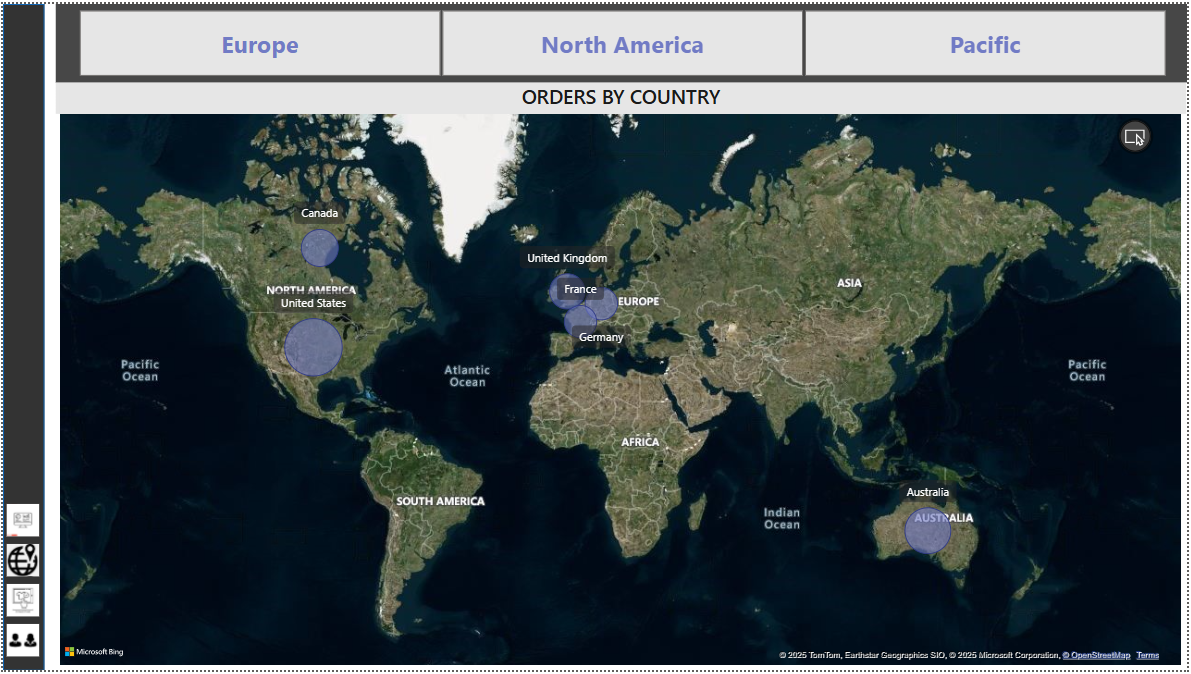

The page's visual inventory and layout, read from the dashboard file:
{"tool":"powerbi","page":{"name":"MAP","canvas":[1280,720],"ordinal":1},"visuals":[{"type":"map","title":"ORDERS BY COUNTRY","fields":{"Category":["Territory Lookup.Country"],"Size":["Table Measures.Total Orders"]},"box":[56.9,84.5,1222.4,634.5],"z":0},{"type":"actionButton","box":[0,536.2,44.8,43.1],"z":0,"group":"g1"},{"type":"slicer","fields":{"Values":["Territory Lookup.Continent"]},"box":[56.9,0,1224.1,84.5],"z":1000},{"type":"actionButton","box":[0,579.3,44.8,43.1],"z":1000,"group":"g1"},{"type":"shape","title":"Left nav bar","box":[0,0,44.8,720.7],"z":2000},{"type":"actionButton","box":[0,622.4,44.8,43.1],"z":2000,"group":"g1"},{"type":"group","id":"g1","title":"Nav Buttons","box":[0,536.2,44.8,172.4],"z":3000},{"type":"actionButton","box":[0,665.5,44.8,43.1],"z":3000,"group":"g1"}]}

Visuals, with their boxes in screenshot pixels (x1, y1, x2, y2):
"ORDERS BY COUNTRY" map: bbox=[52, 78, 1174, 660]
actionButton: bbox=[0, 492, 41, 532]
slicer - Territory Lookup.Continent: bbox=[52, 0, 1175, 78]
actionButton: bbox=[0, 532, 41, 571]
"Left nav bar" shape: bbox=[0, 0, 41, 661]
actionButton: bbox=[0, 571, 41, 611]
"Nav Buttons" group: bbox=[0, 492, 41, 650]
actionButton: bbox=[0, 611, 41, 650]
